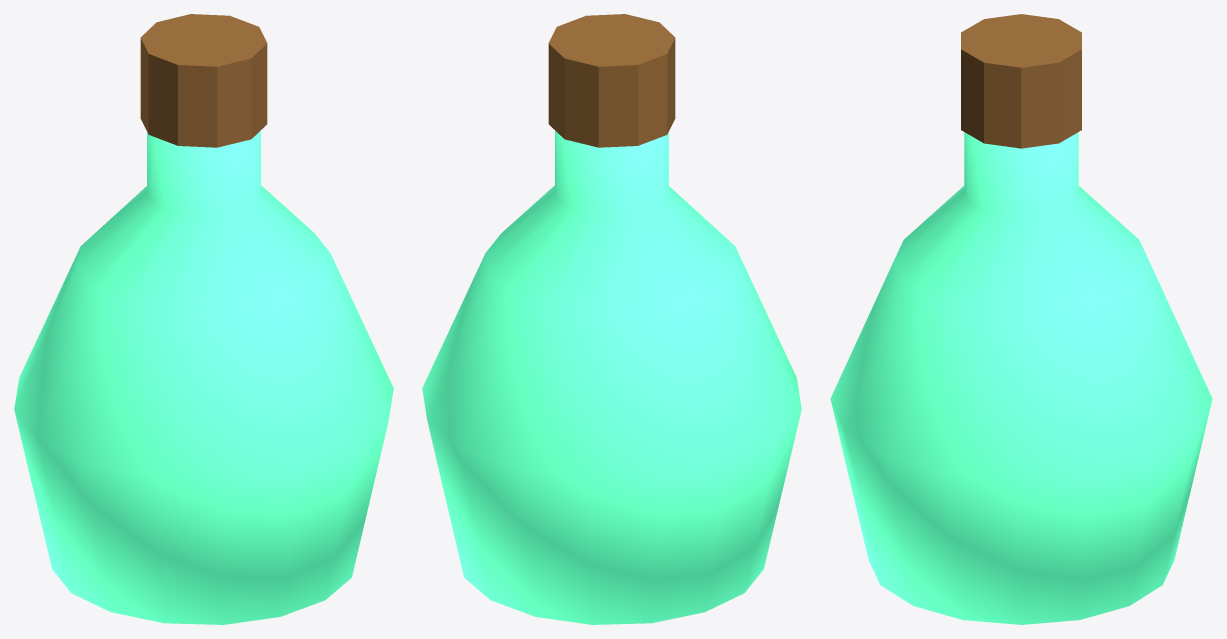
The model's file is icon_potion.glb.
3 views of the same model, side by side, from view 1: azimuth 30°, elevation 25°; view 2: azimuth 150°, elevation 25°; view 3: azimuth 270°, elevation 25° (orthographic).
Visible parts, largest first — view 1: bottle, cork; view 2: bottle, cork; view 3: bottle, cork.
Part boxes in pixels (left/top/right/bottom): bottle: left=14, top=130, right=393, bottom=624; cork: left=140, top=14, right=267, bottom=147; bottle: left=422, top=130, right=801, bottom=624; cork: left=548, top=14, right=675, bottom=147; bottle: left=830, top=132, right=1212, bottom=624; cork: left=961, top=14, right=1081, bottom=148.
Bounding box in the file's own units: 0.3 × 0.45 × 0.3.
